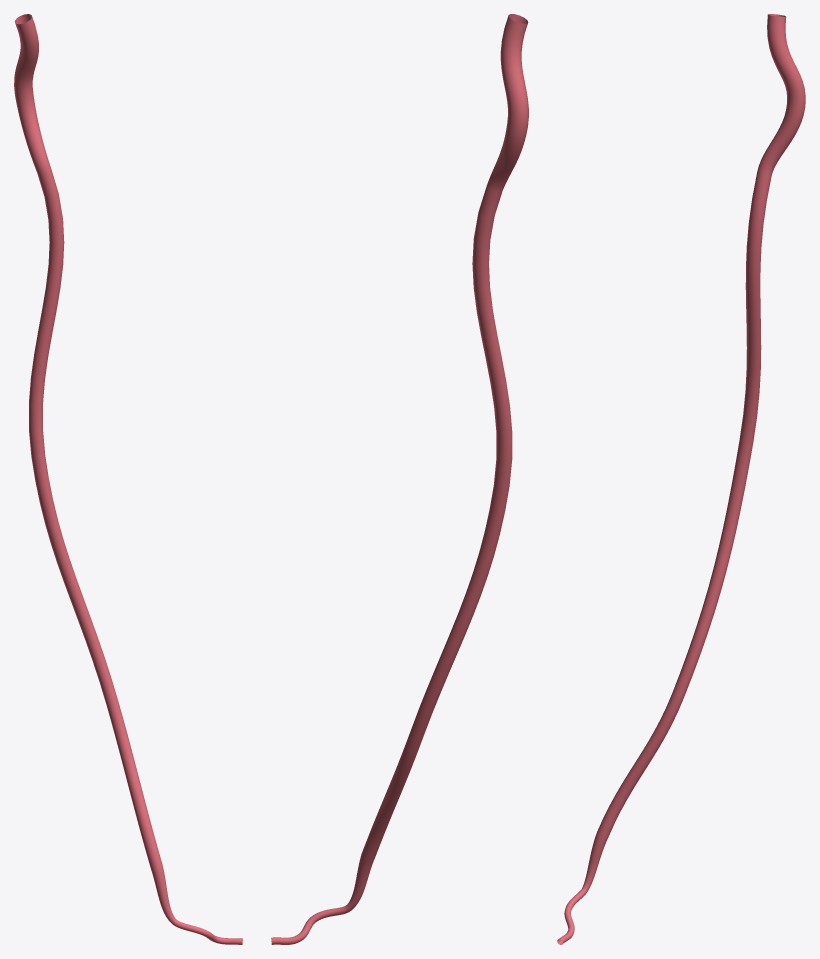
3 renders of one model, left to right at view 1: azimuth 30°, elevation 25°; view 2: azimuth 210°, elevation 25°; view 3: azimuth 270°, elevation 25°, orthographic. The views are drawn at different scales.
Visible parts, largest first — view 1: ZA_9e132c016a6bd9b2; view 2: ZA_9e132c016a6bd9b2; view 3: ZA_9e132c016a6bd9b2.
Part boxes in pixels (x1,y1,x2,y2): ZA_9e132c016a6bd9b2: [14, 14, 242, 944]; ZA_9e132c016a6bd9b2: [271, 14, 528, 944]; ZA_9e132c016a6bd9b2: [557, 14, 805, 944].
Size of the model in its own units: 0.0296 by 0.207 by 0.0531.
